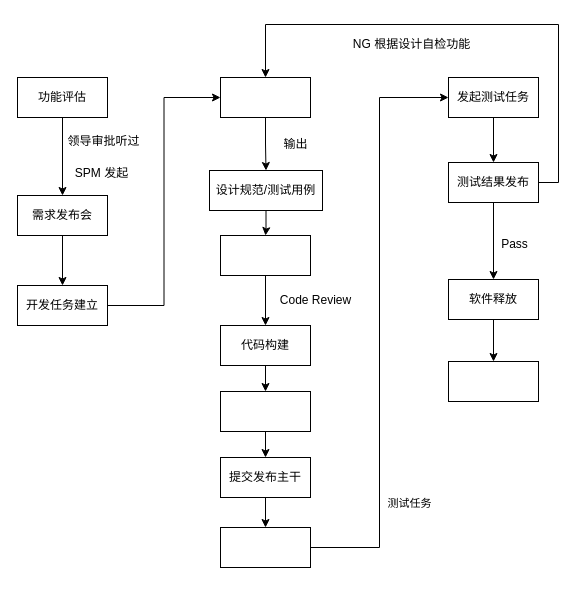
This 584x593 diagram has some shape labels left out. Here are the shapes that lost their labels. From the top down, the centre of each, then its label:
point 265,97: 开发设计
point 265,255: 评审会议
point 493,381: 通知SPM
point 265,411: 功能自测通过
point 265,547: 通知SPM/SQA
